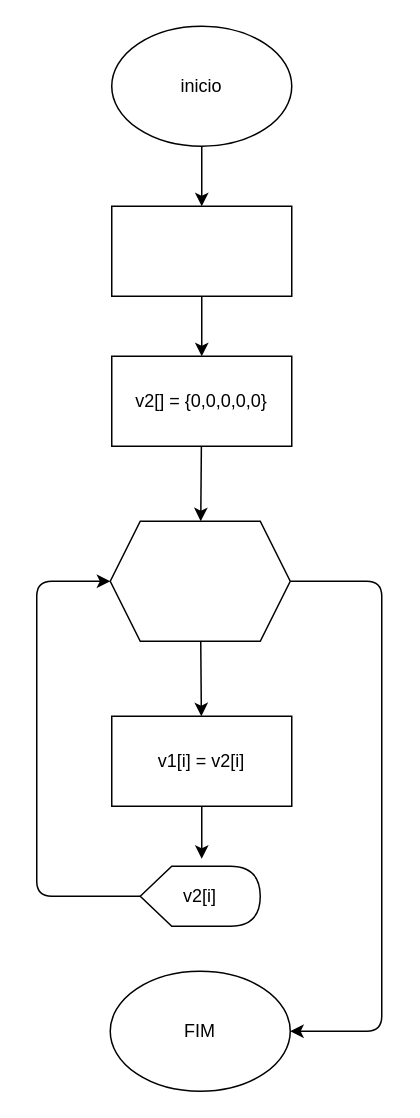
The diagram is 420 pixels wide and 1118 high, and some of its shapes have lost their labels. The centre of each missing label's shape, as x and y in pixels:
i,5,0,-1: (x=199, y=580)
v1[] = {41,72,39,4,35}: (x=201, y=250)
